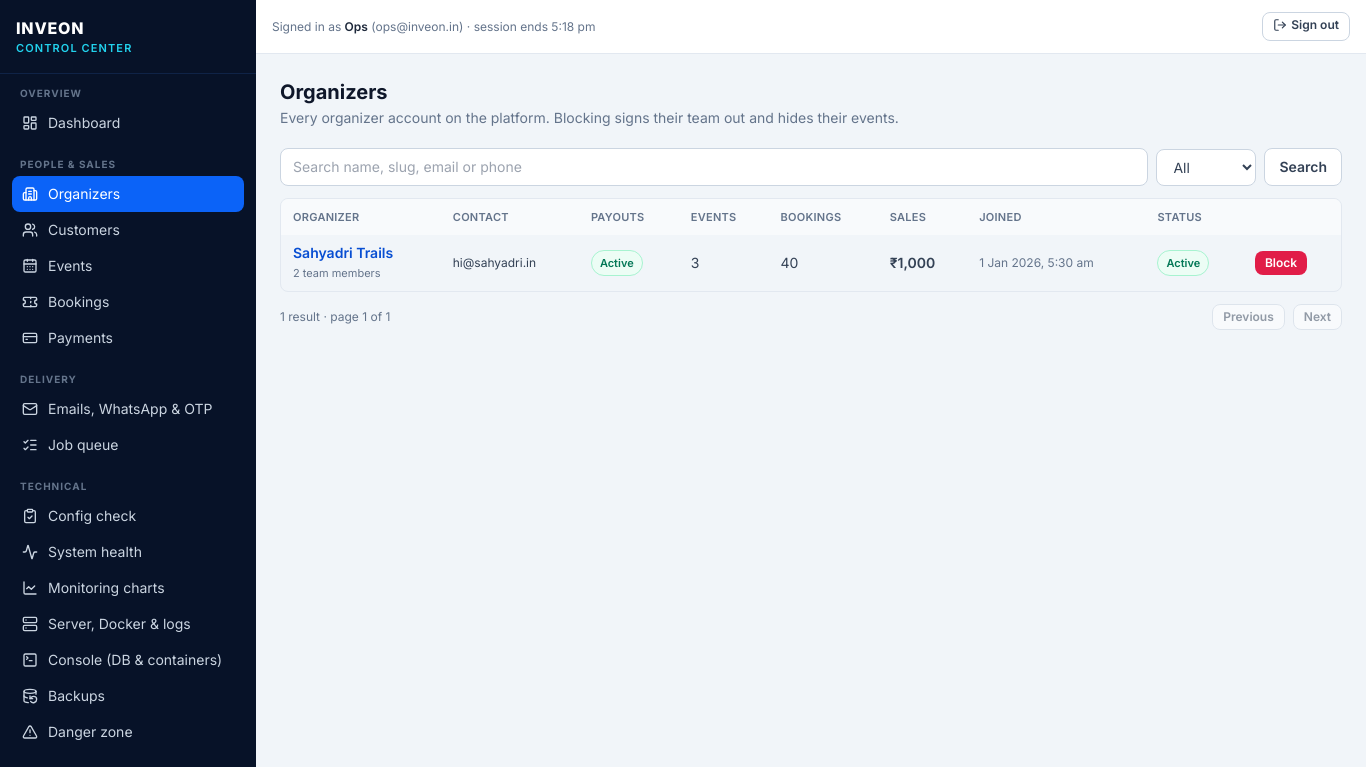
super admin portal › blocks an organizer with a reason
This screenshot has width=1366, height=767.
Click the button "Block" at (1281, 263), box [1255, 251, 1307, 275]
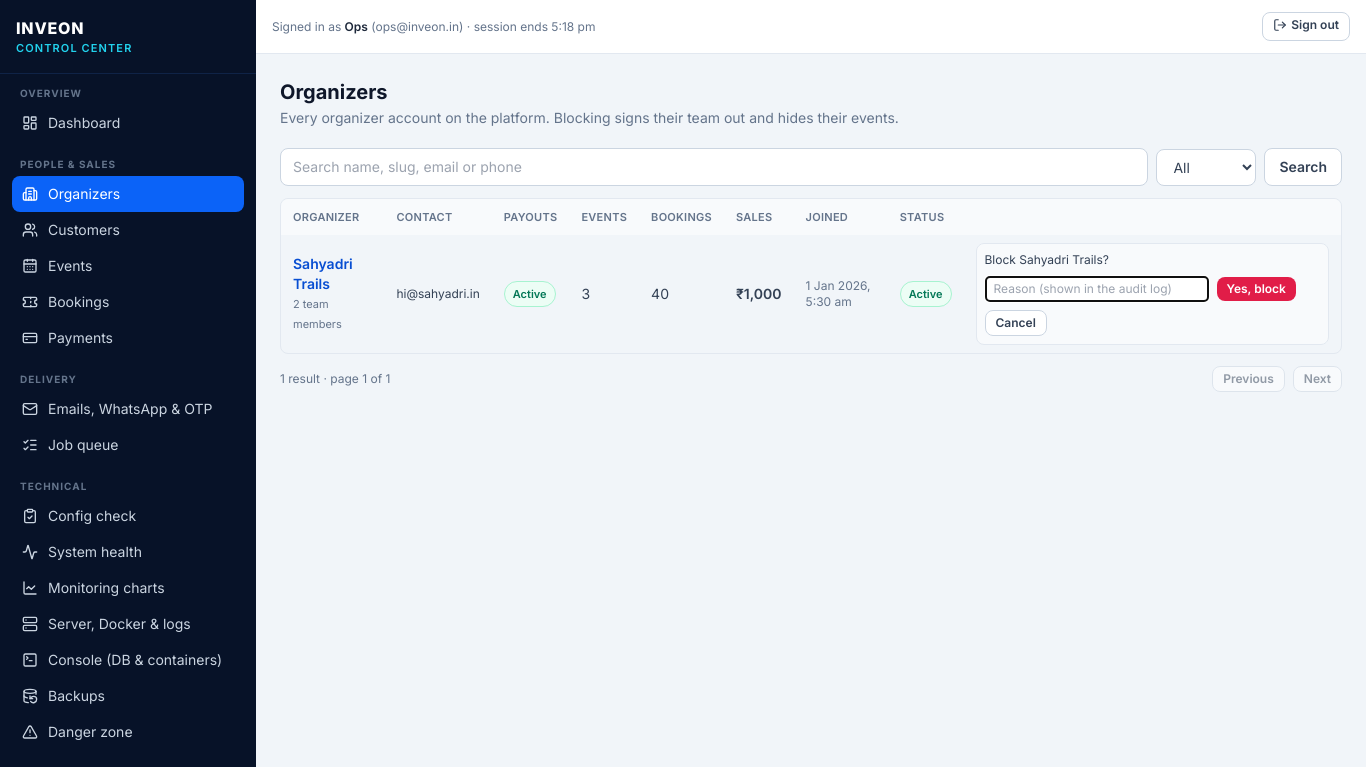
Type "KYC mismatch" into the field labelled "Reason" at (1096, 289), box [984, 276, 1208, 302]
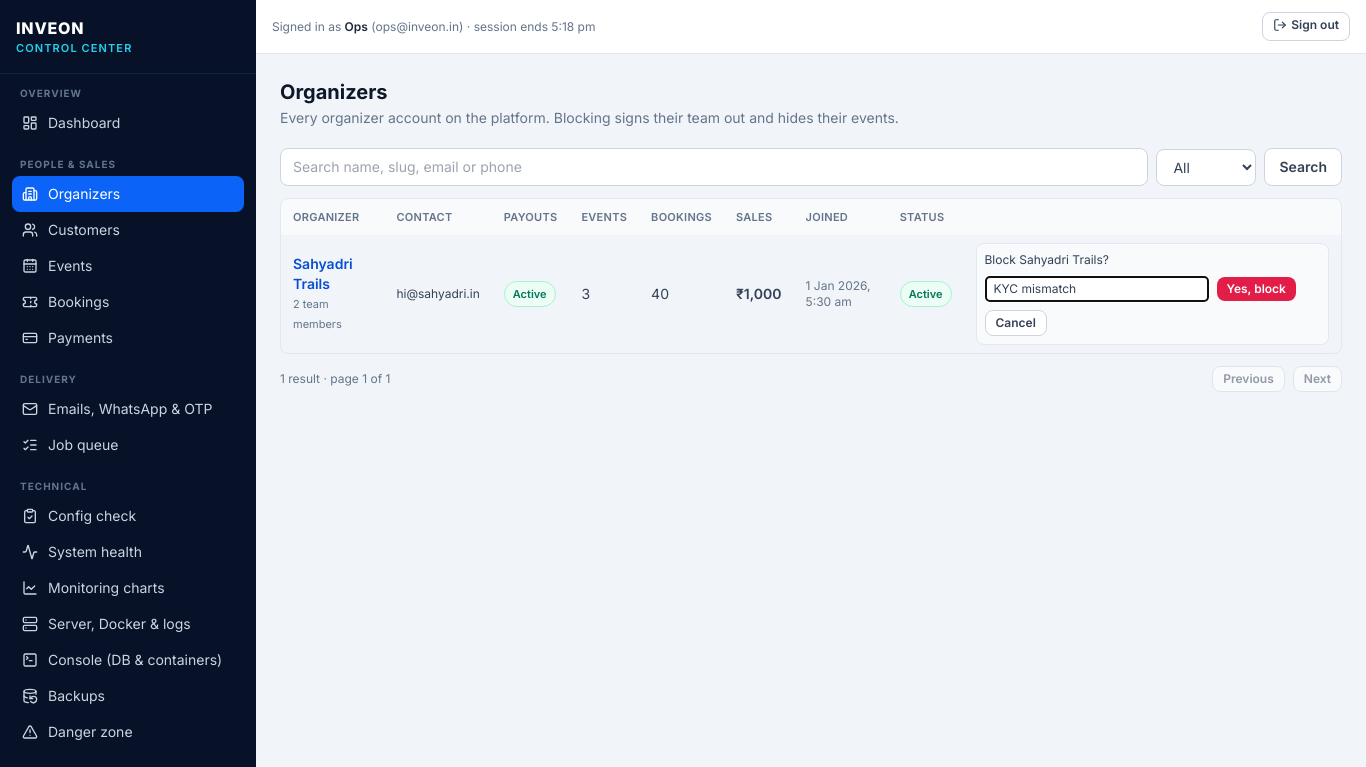
Click the button "Yes, block" at (1256, 289), box [1216, 277, 1296, 301]
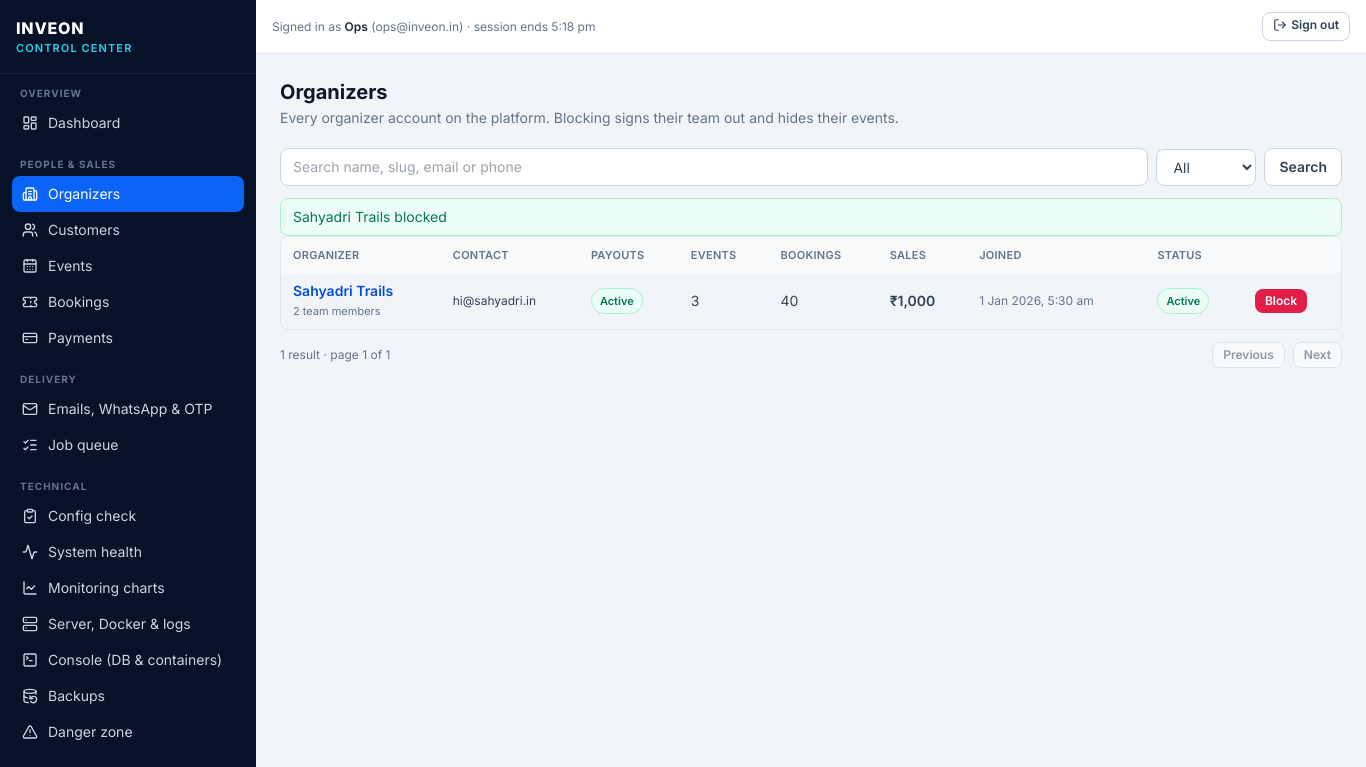
Now the text "Sahyadri Trails blocked" is shown, box [280, 198, 1342, 236]
